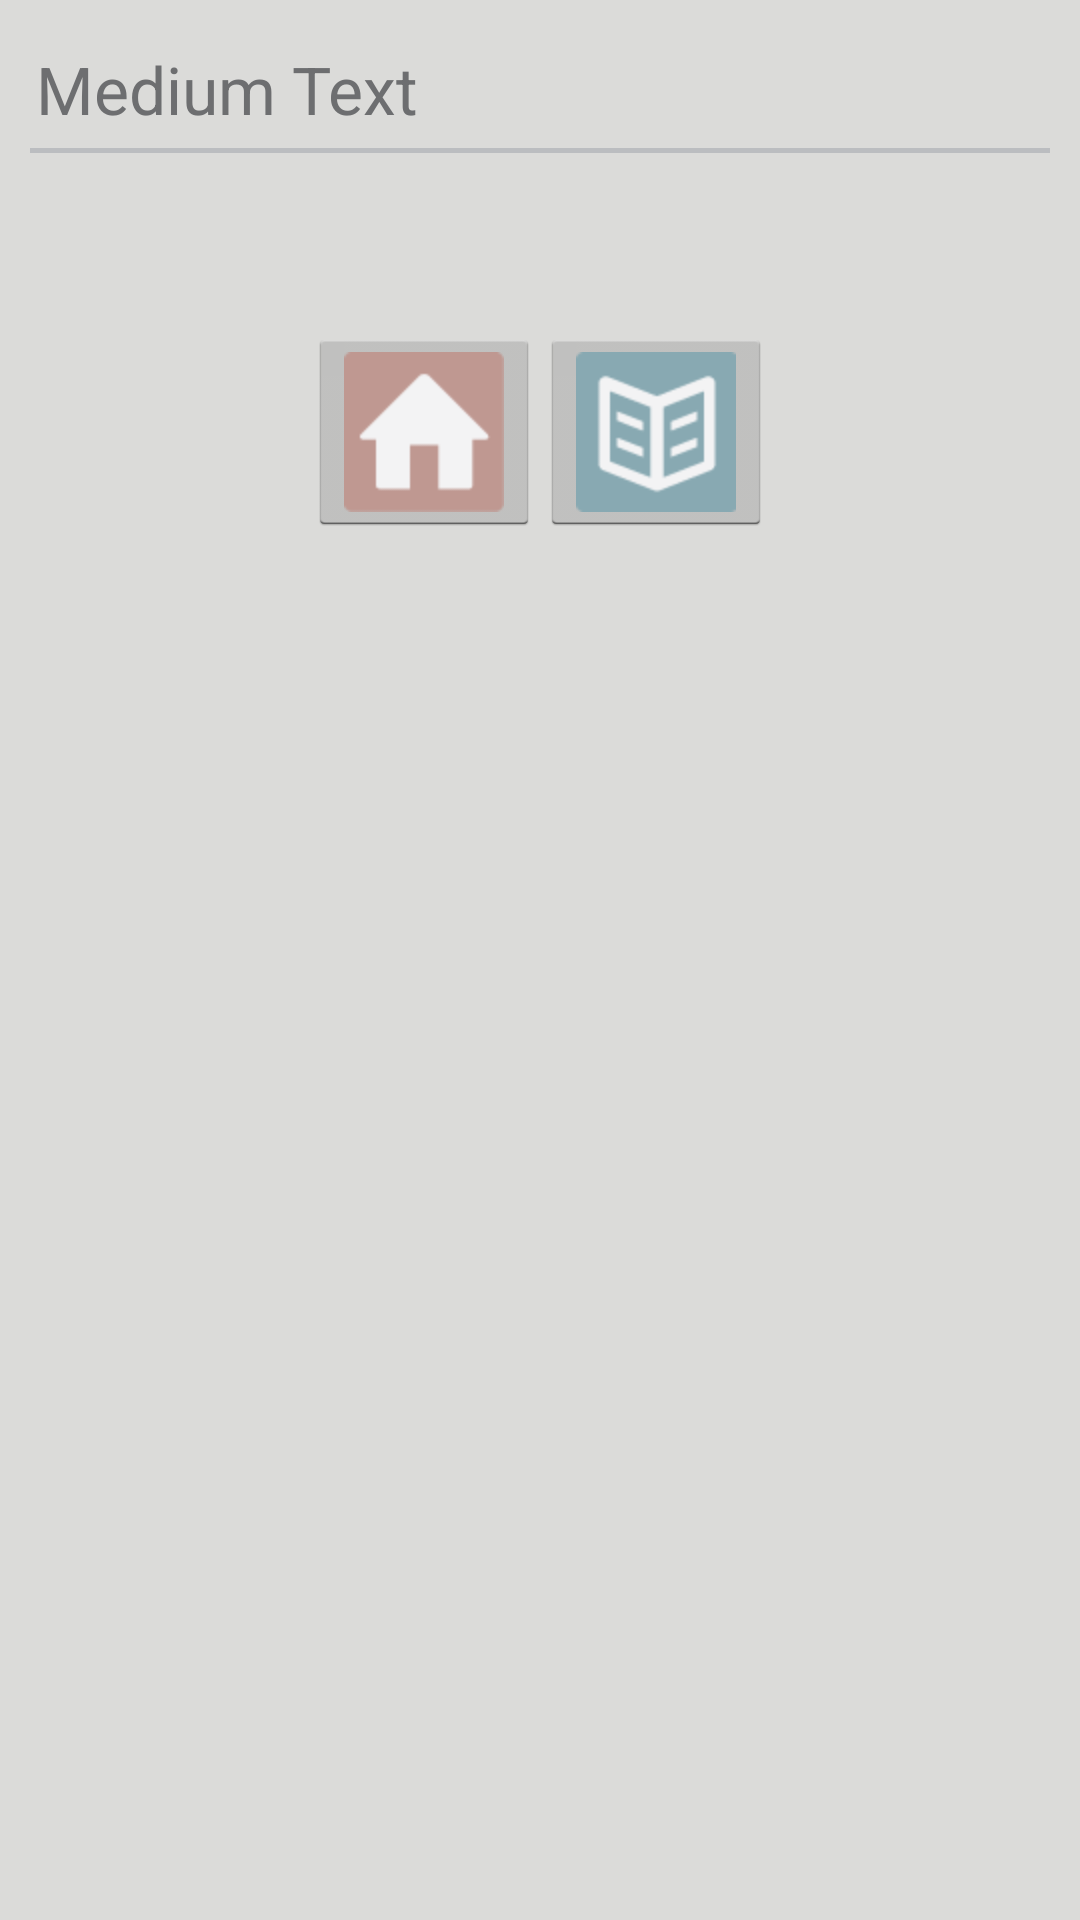

Icons on this 1080px×1920px Android screen, each with its box as (x1, y1, x2, y2):
Courses: (552, 342, 760, 525)
Home: (320, 342, 528, 525)
